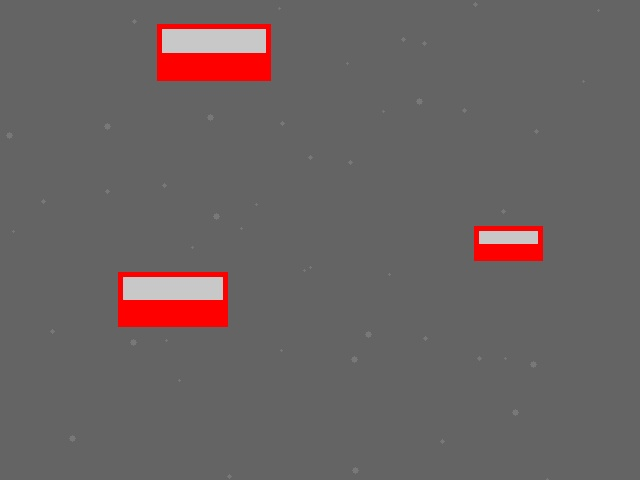car: (157, 24, 270, 80), (118, 272, 227, 326), (474, 226, 542, 260)
